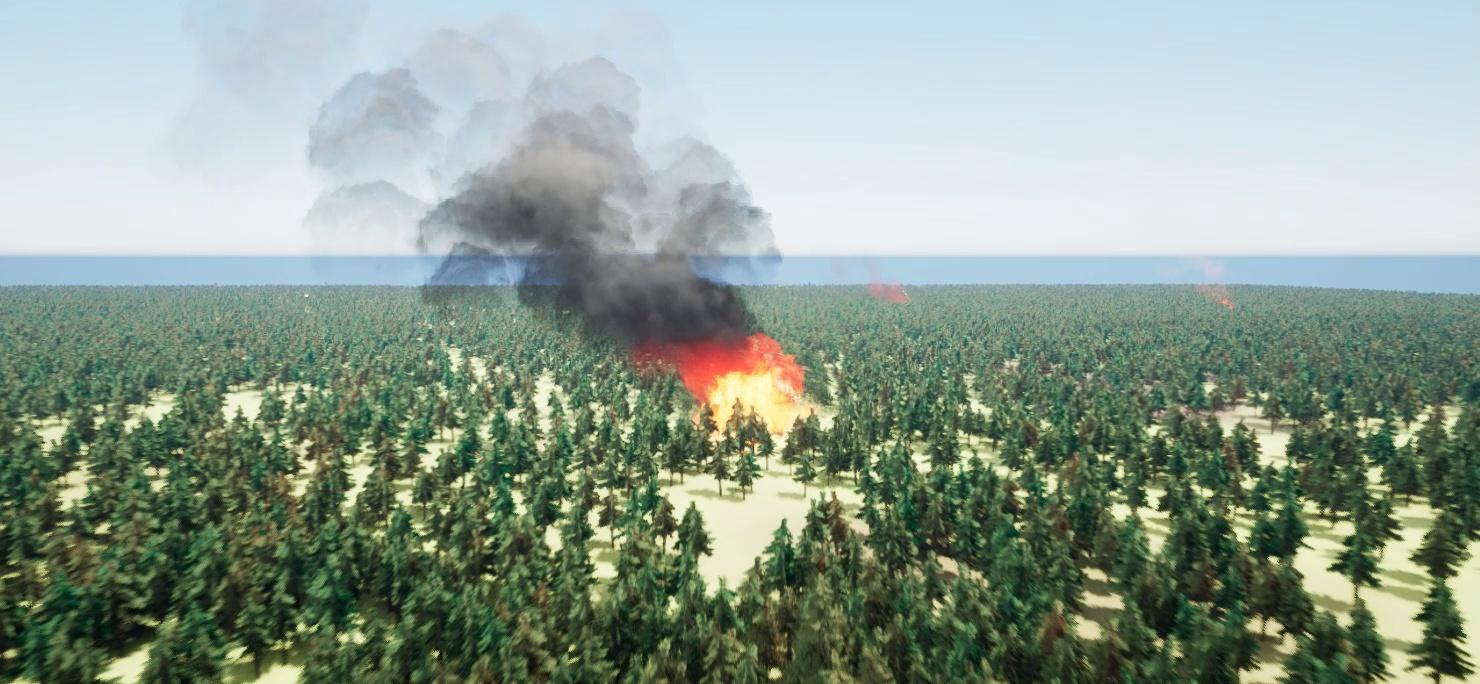fire: (660, 348, 833, 427)
smoke: (292, 23, 797, 339), (851, 265, 913, 301), (1190, 257, 1230, 307)
